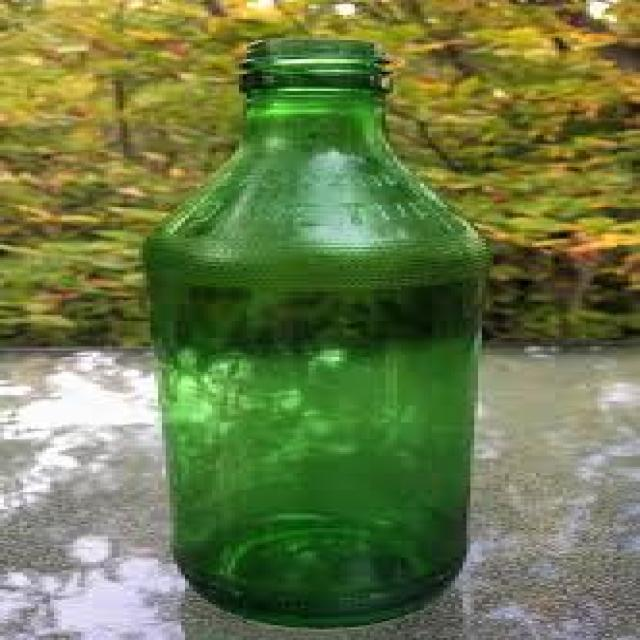glass: (135, 36, 482, 623)
